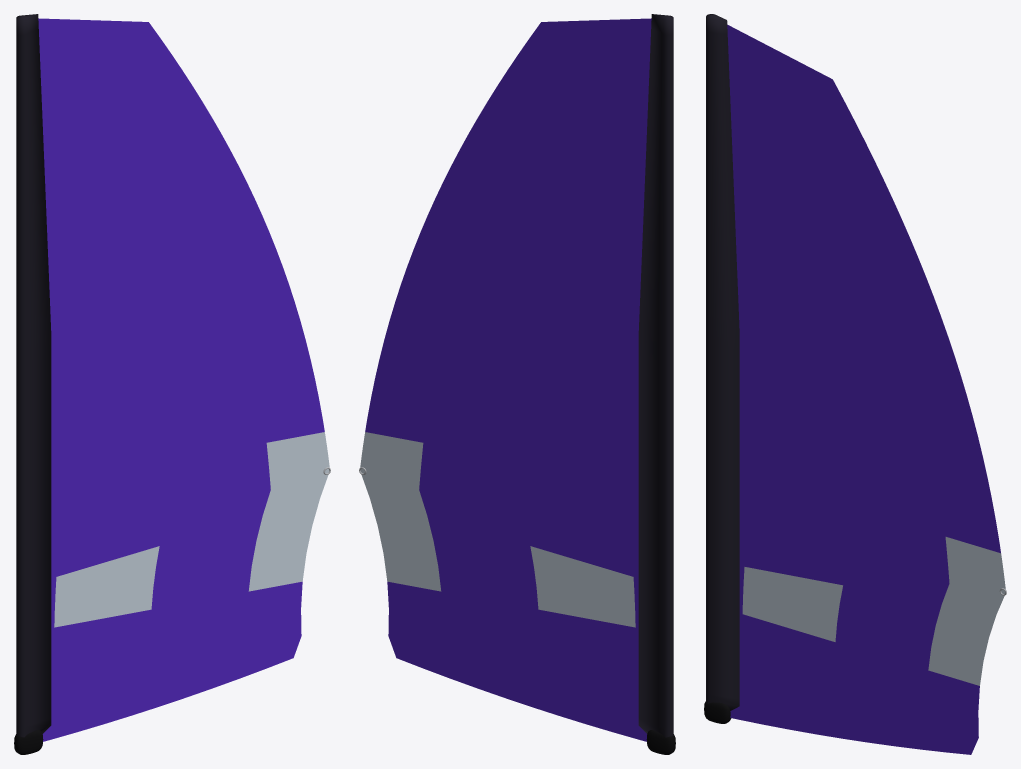
Rendered from gg_sails_slalom_7_7.glb.
3 renders of one model, left to right at view 1: azimuth 30°, elevation 25°; view 2: azimuth 150°, elevation 25°; view 3: azimuth 330°, elevation 25°, orthographic. The views are drawn at different scales.
Parts seen in each view (by area): view 1: SailCloth, TackFairing; view 2: SailCloth, TackFairing; view 3: SailCloth, TackFairing.
Boxes of the visible parts, bbox=[...] form: SailCloth: bbox=[16, 14, 329, 741]; TackFairing: bbox=[14, 730, 43, 754]; SailCloth: bbox=[360, 14, 673, 741]; TackFairing: bbox=[646, 730, 675, 754]; SailCloth: bbox=[706, 14, 1005, 754]; TackFairing: bbox=[704, 701, 731, 723].
Size of the model in its own units: 2.14 by 4.79 by 0.08.
